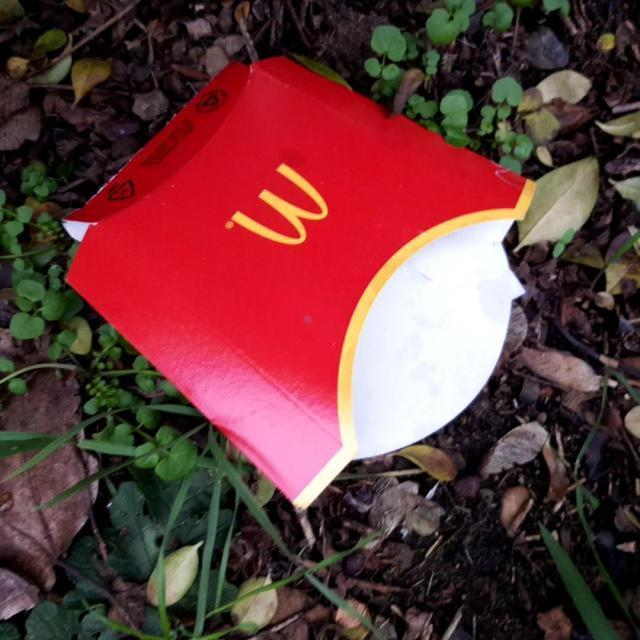Paper: (60, 51, 542, 520)
